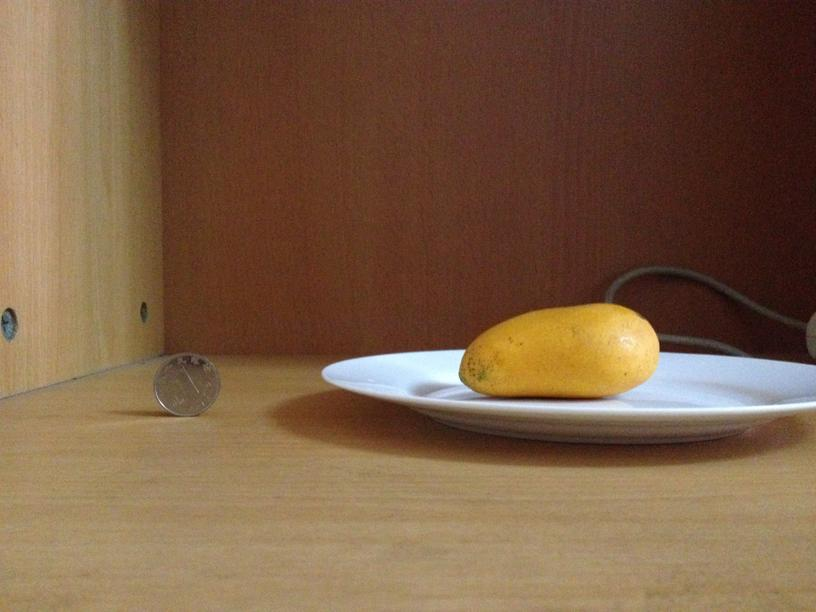coin: (153, 351, 220, 418)
mango: (461, 299, 657, 398)
